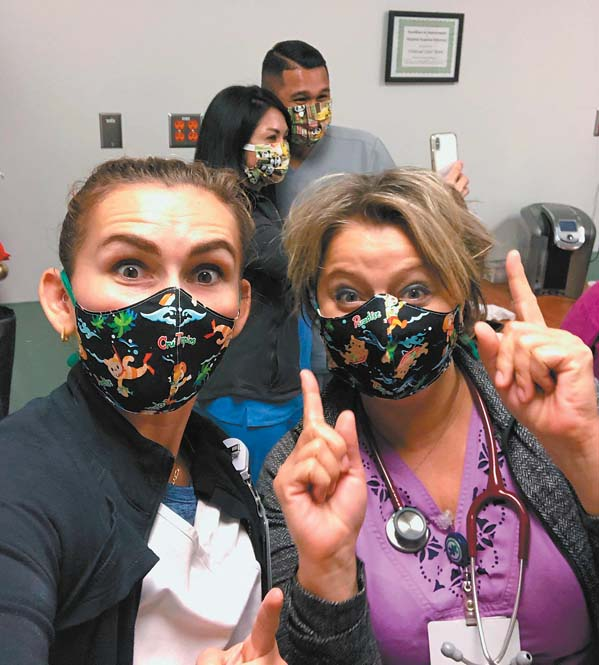with_mask: (95, 208, 217, 386), (330, 260, 442, 352), (250, 114, 295, 184), (290, 76, 325, 140)
